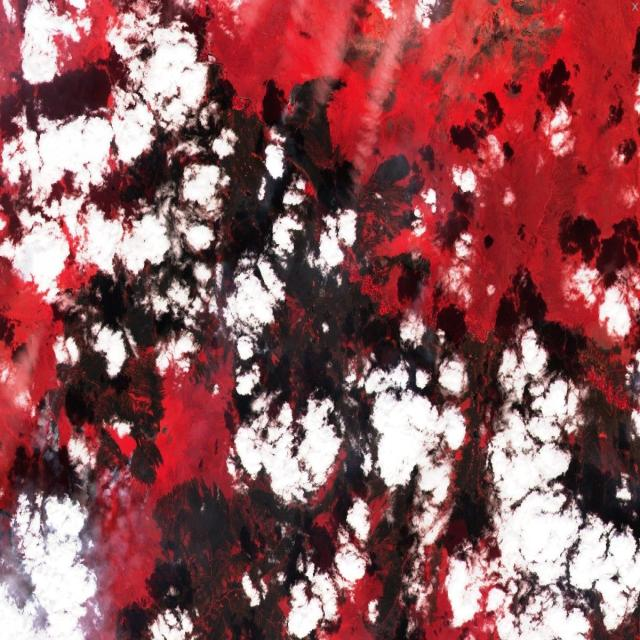fire: (38, 382, 156, 509), (282, 71, 313, 111), (416, 250, 438, 290)
